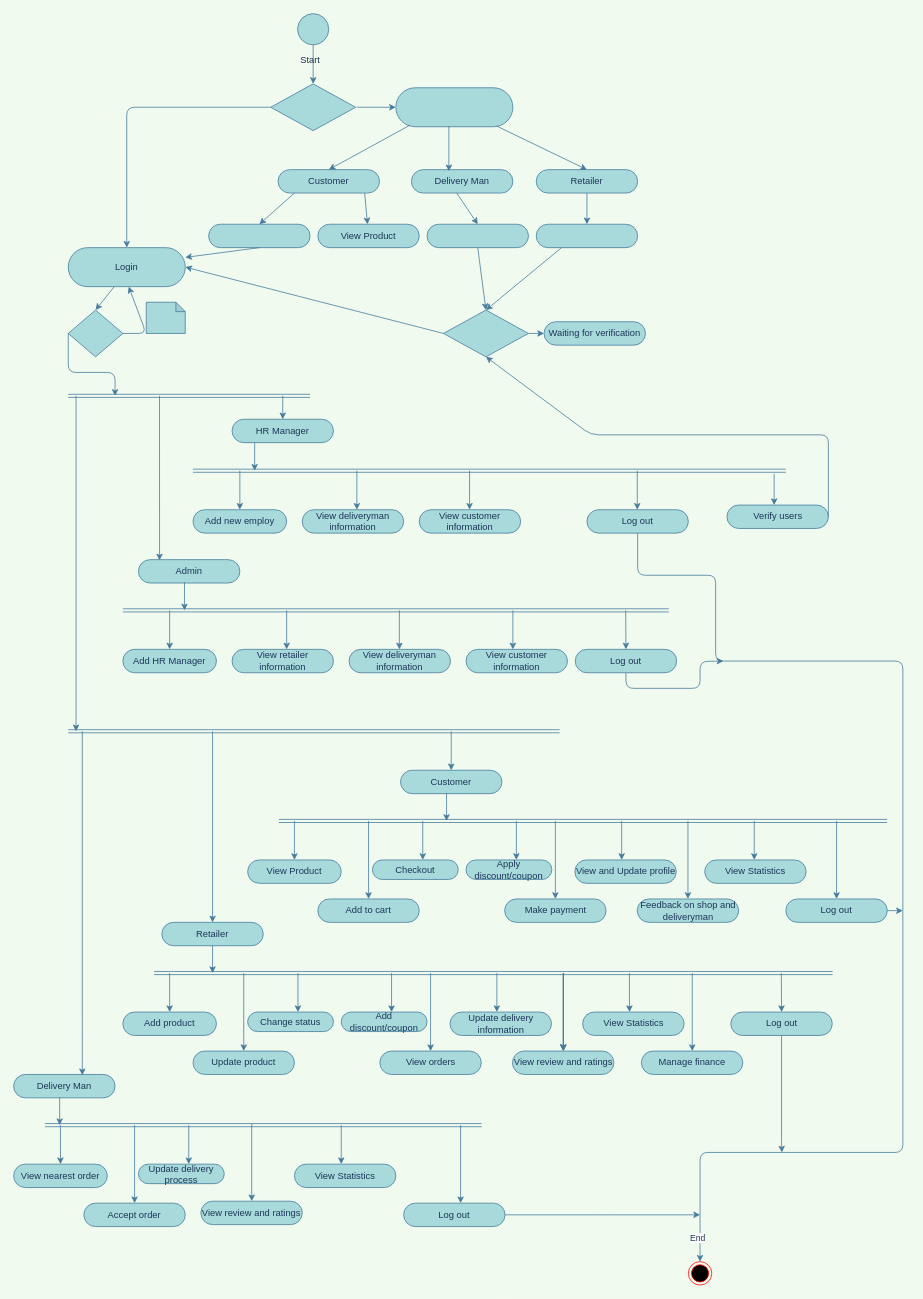
Image size: 923x1299. Some labels were removed from this diagram. The shapes that lost their labels are listed below. From the top down, each one's centre as x and y in pixels, then its label:
At (313,107): "User's".
At (454,107): "Unregistered User".
At (259,235): "Register as customer".
At (477,235): "Register as delivery man".
At (586,235): "Register as retailer".
At (95,333): "Verify uname and pass".
At (165,317): "invalid".
At (485,333): "Verification".
